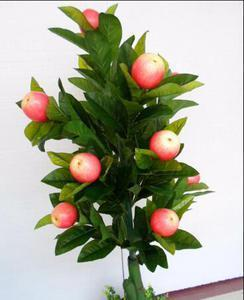apple: (129, 52, 167, 89), (68, 151, 101, 183), (148, 129, 181, 160), (149, 207, 178, 237), (21, 91, 48, 121), (50, 201, 78, 229)
